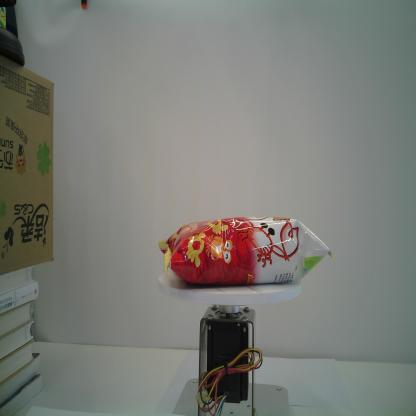Puffed Food: (158, 215, 334, 285)
